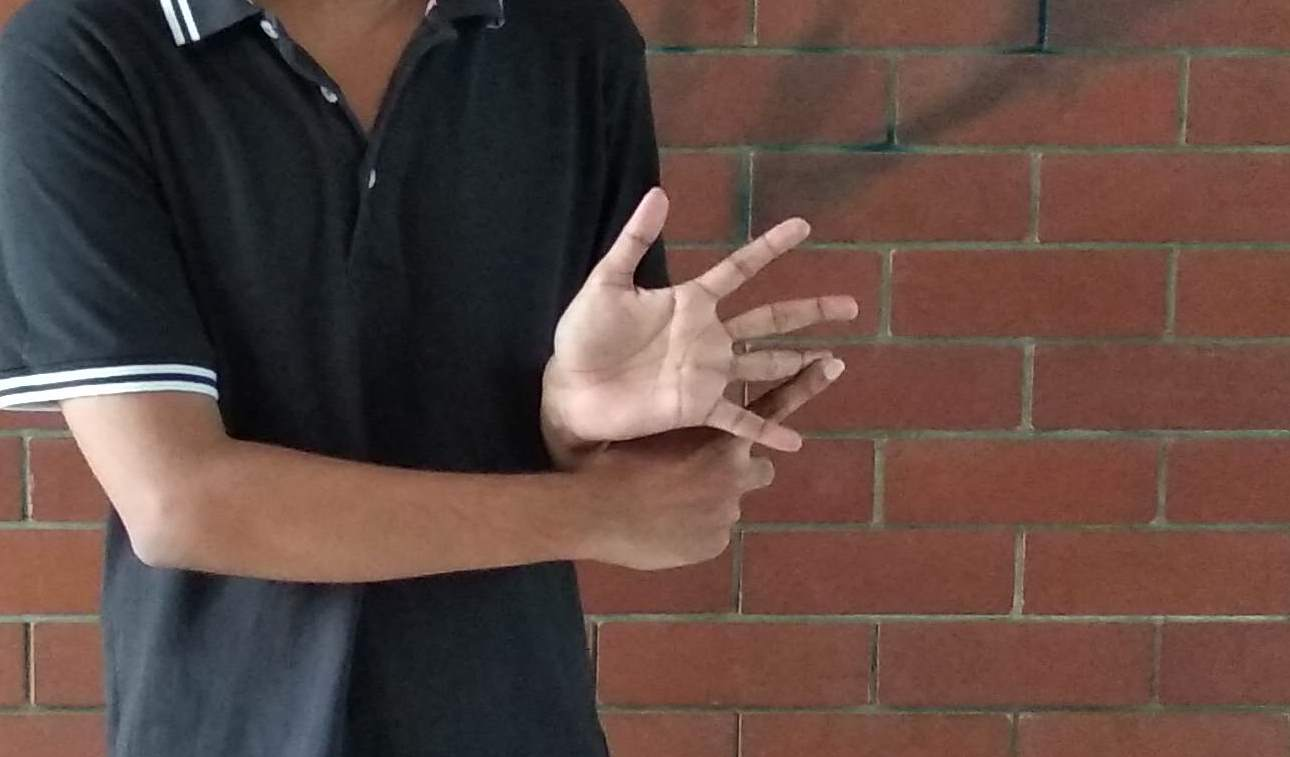e: (602, 212, 870, 521)
